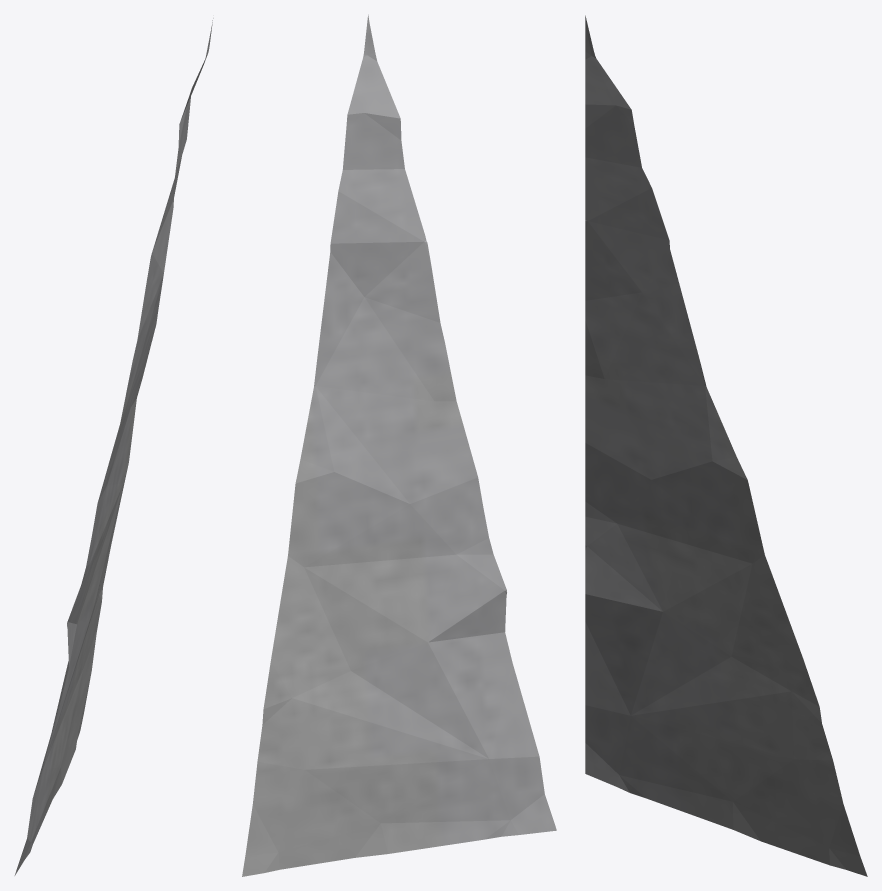
The picture shows the model from 3 angles, left to right: view 1: azimuth 30°, elevation 25°; view 2: azimuth 150°, elevation 25°; view 3: azimuth 270°, elevation 25°; orthographic projection. The views are drawn at different scales.
Bounding box in the file's own units: 0.1021 × 0.3981 × 0.1182.
1 material, 1 textured.
